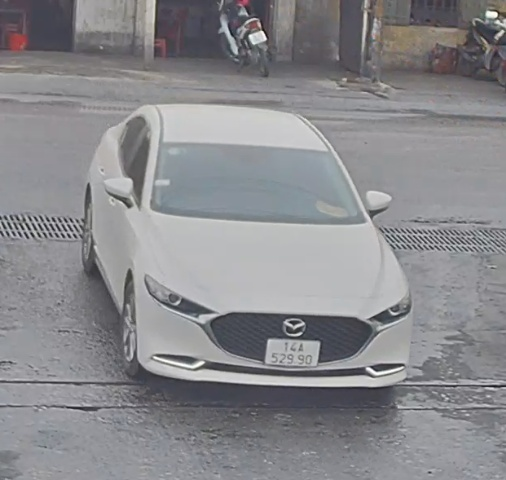vehicle plate: (262, 333, 322, 369)
